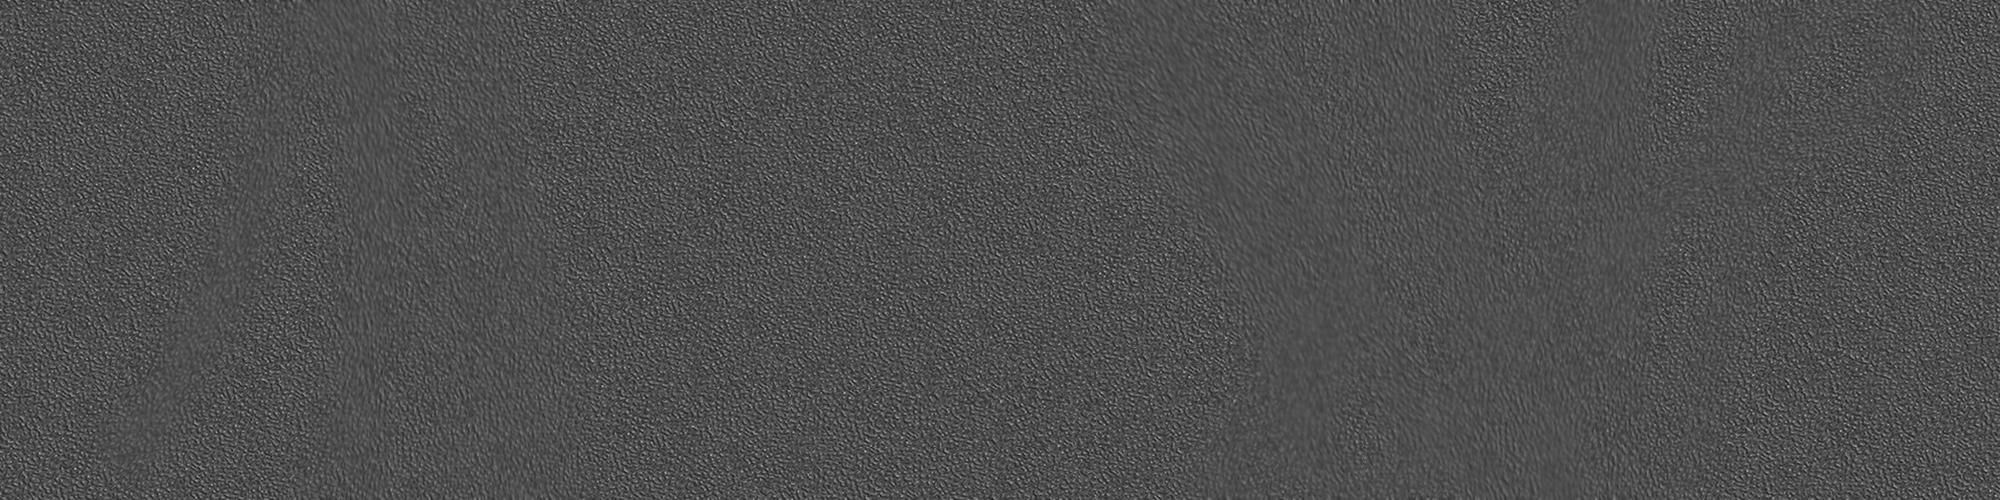Flow_Lines: (1092, 26, 1366, 483), (186, 14, 446, 482)
